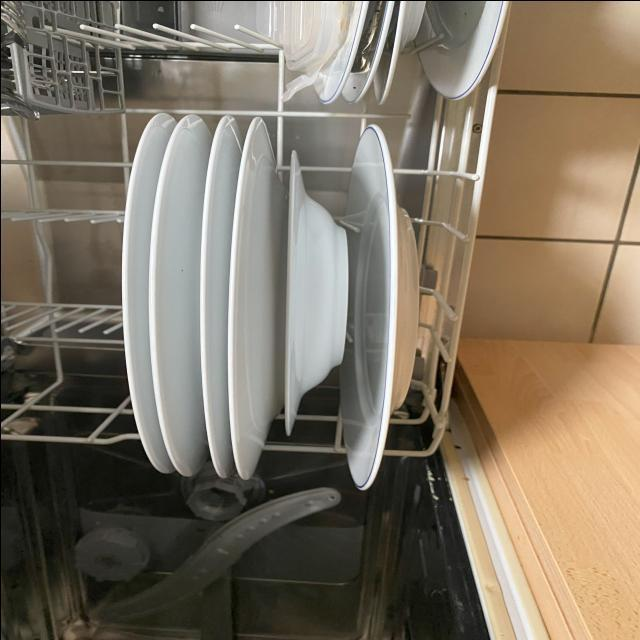empty_slot: (9, 145, 127, 412)
